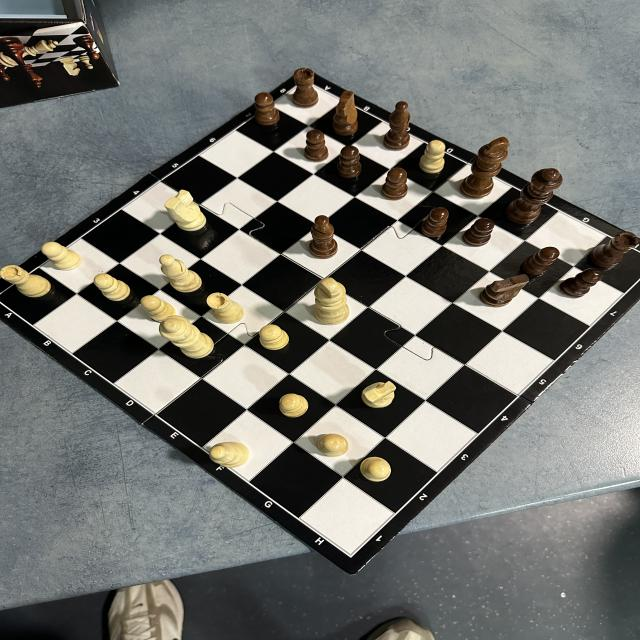Black-Bishop: (383, 101, 410, 150), (310, 214, 337, 258)
Black-King: (461, 136, 509, 198)
Black-Knight: (482, 272, 530, 306), (332, 91, 358, 135)
Black-Pawn: (561, 267, 603, 297), (522, 247, 560, 276), (462, 218, 495, 247), (381, 168, 408, 200), (254, 91, 278, 126), (422, 207, 449, 238), (305, 129, 328, 162), (339, 146, 359, 180)
Black-Queen: (506, 168, 562, 224)
Black-Rook: (590, 231, 636, 269), (292, 68, 318, 108)
White-Bishop: (160, 254, 202, 293), (209, 442, 249, 468)
White-King: (316, 278, 347, 324)
White-Knight: (164, 190, 207, 232), (361, 381, 397, 409)
White-Pawn: (44, 242, 80, 270), (94, 273, 131, 300), (360, 456, 392, 483), (258, 324, 290, 350), (142, 296, 175, 321), (317, 433, 349, 457), (421, 140, 444, 173), (280, 394, 309, 417)
White-Queen: (159, 316, 213, 358)
White-Rook: (0, 264, 50, 297), (204, 292, 246, 324)
